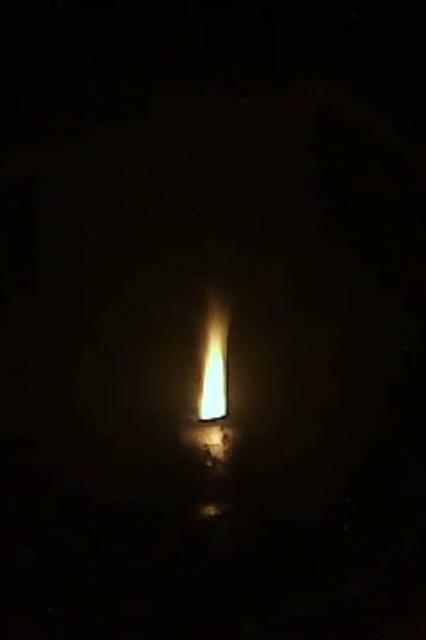burner flame: (193, 288, 237, 422)
